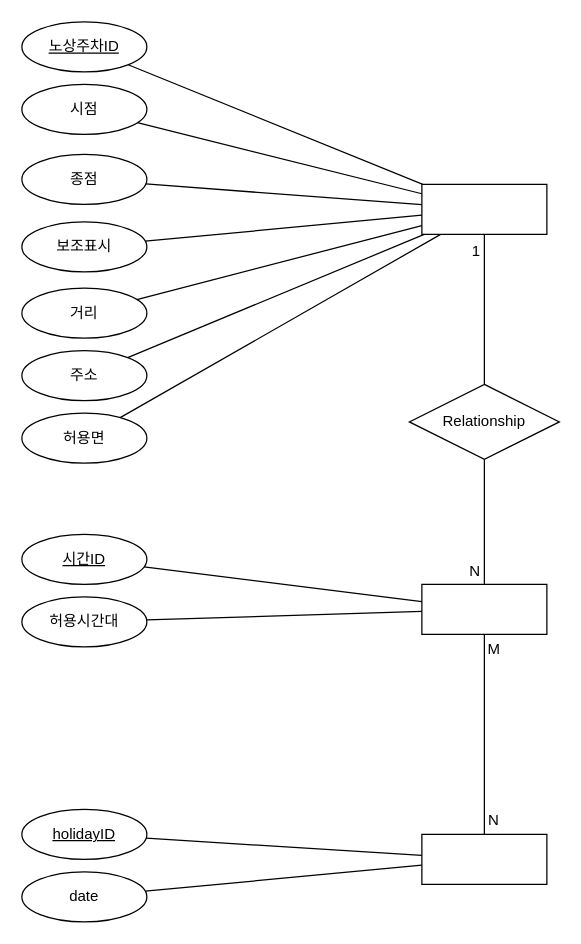
Some shapes in this 581 by 944 pixel diagram are drawn without their labels. The centre of each missing label's shape, as x and y in pixels:
holiday: the point at 484,858
노상주차: the point at 484,208
시간: the point at 484,608
